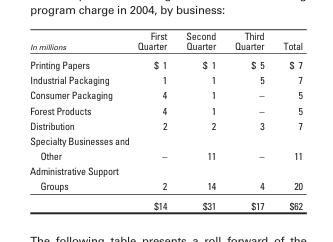table: (29, 29, 302, 211)
table column: (29, 29, 132, 211), (175, 29, 224, 211), (224, 29, 273, 211), (132, 29, 175, 211), (273, 29, 302, 211)
table column header: (29, 29, 302, 54)
table row: (29, 162, 302, 195), (29, 132, 302, 162), (29, 29, 302, 54), (29, 54, 302, 71), (29, 71, 302, 87), (29, 195, 302, 211), (29, 87, 302, 102), (29, 102, 302, 117), (29, 117, 302, 132)
